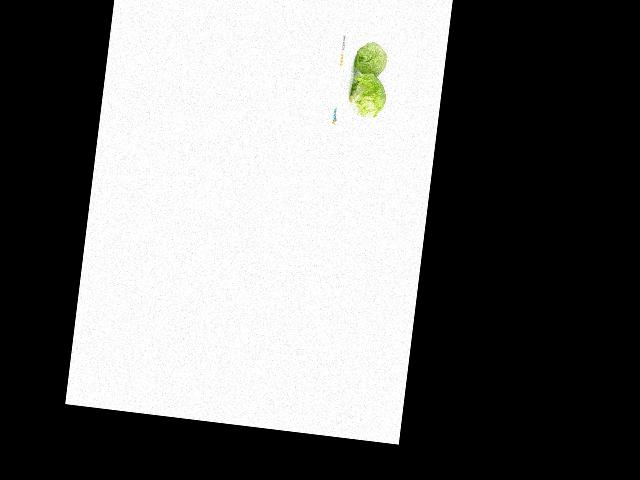lettuce: (345, 38, 389, 87)
